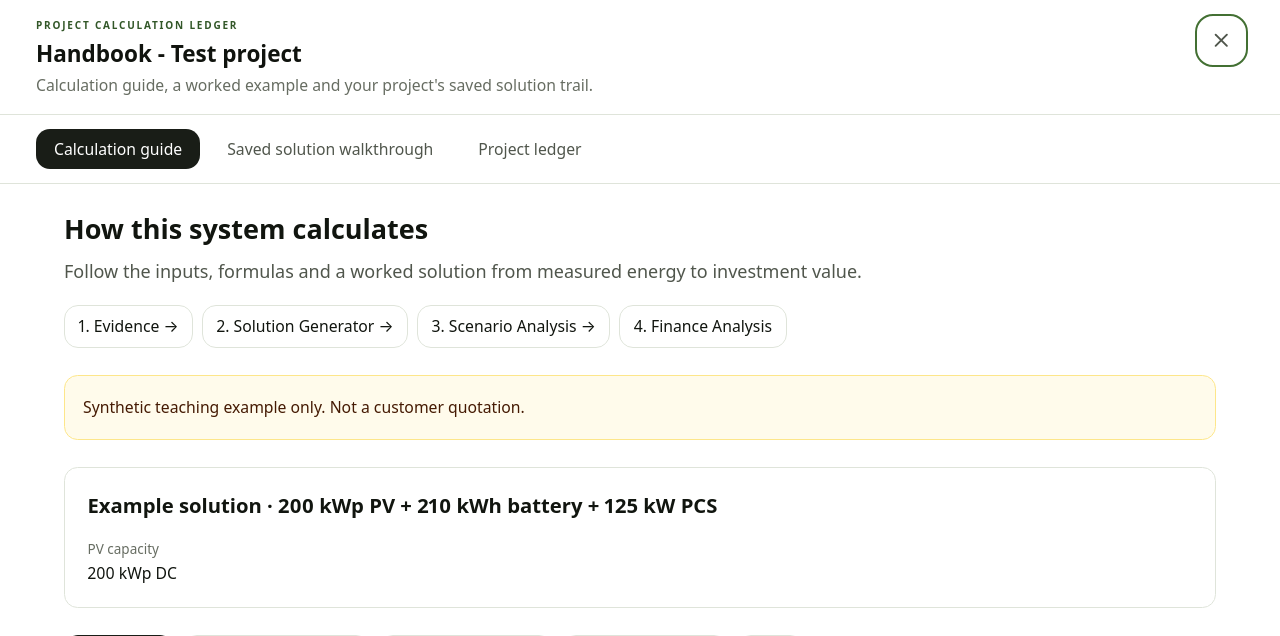
Test: CiHandbookPanel › changes Handbook modules without refetching or sending a POST
Click the button "Project ledger".
click(530, 149)  # box [460,128,600,169]
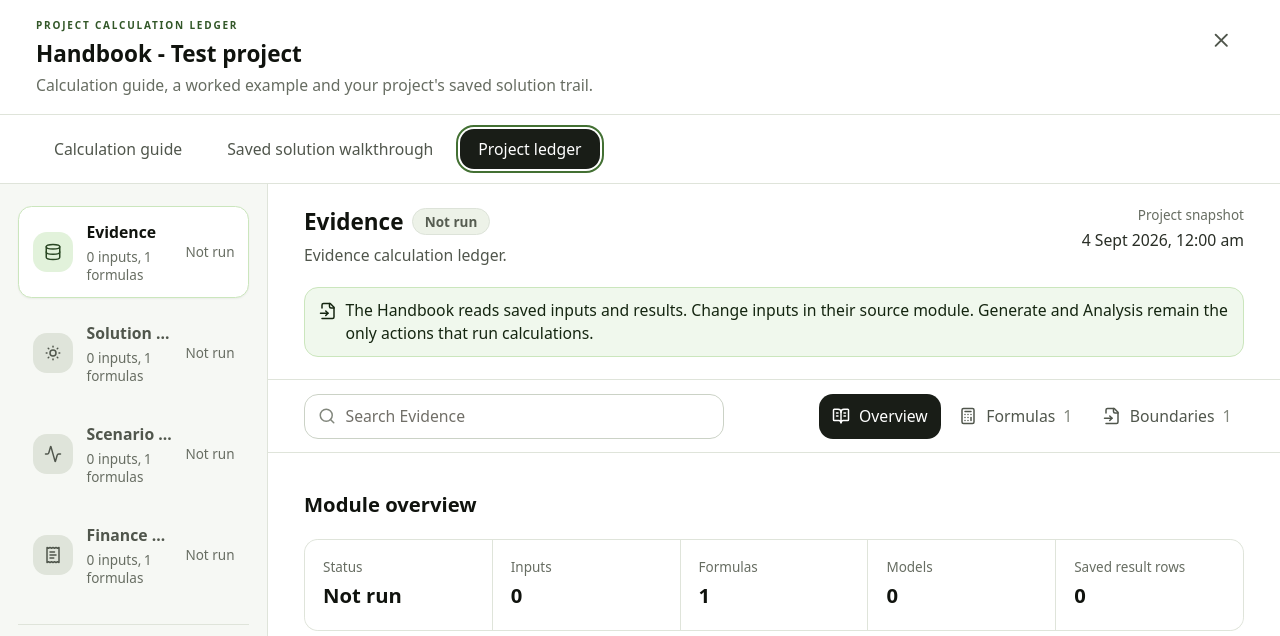
Check: the heading "Module overview" is shown, box [304,490,477,518]
Click the button "Formulas 1".
click(1015, 416)  # box [946,394,1085,438]
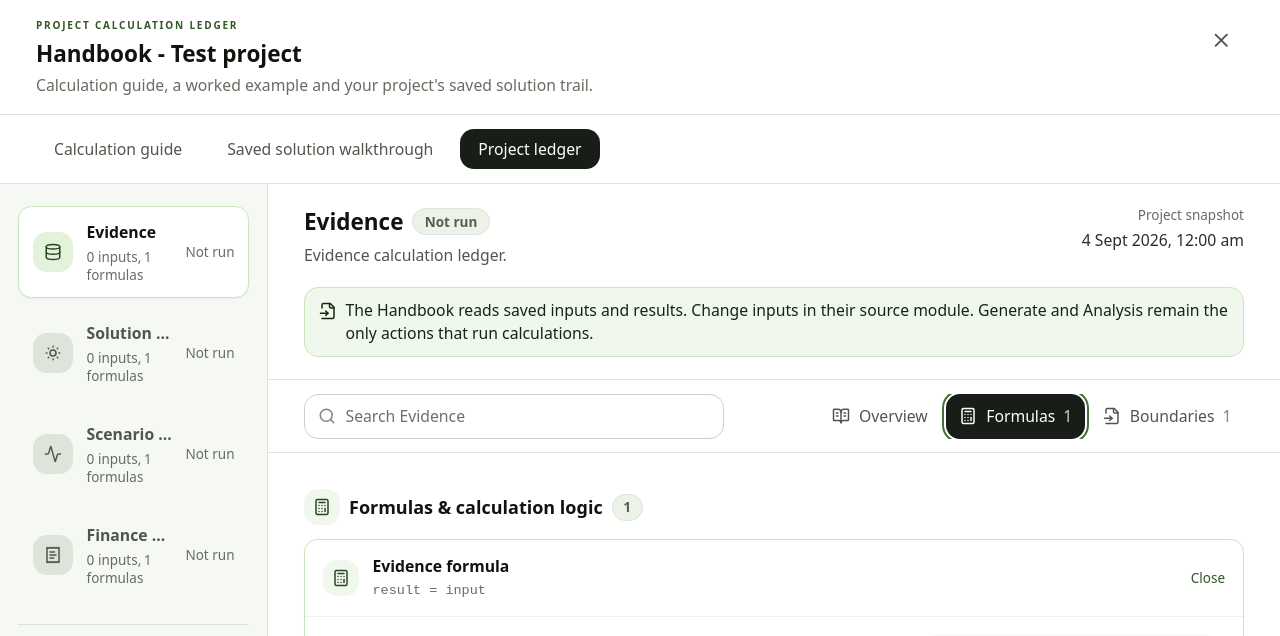
Check: the text "Evidence formula" is shown, box [372,555,509,577]
Click the button "Solution Generator 0 inputs, 1 formulas Not run".
click(134, 353)  # box [18,307,249,399]
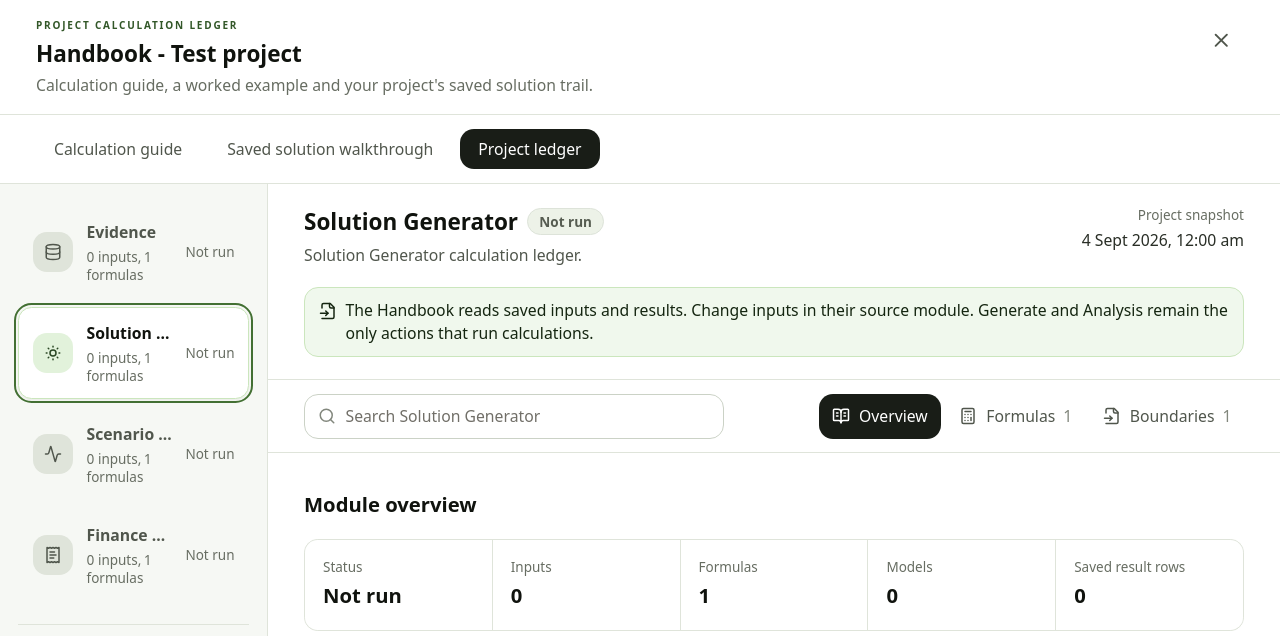
Click the button "Formulas 1".
click(1015, 416)  # box [946,394,1085,438]
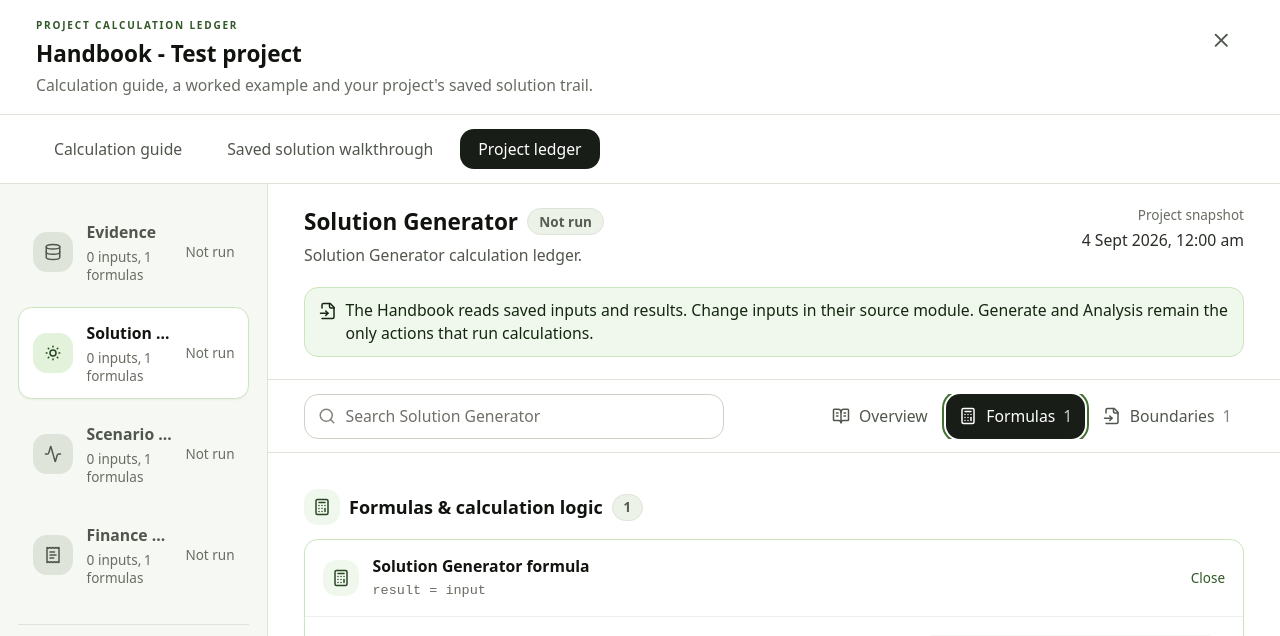
Check: the text "Solution Generator formula" is shown, box [372,555,590,577]
